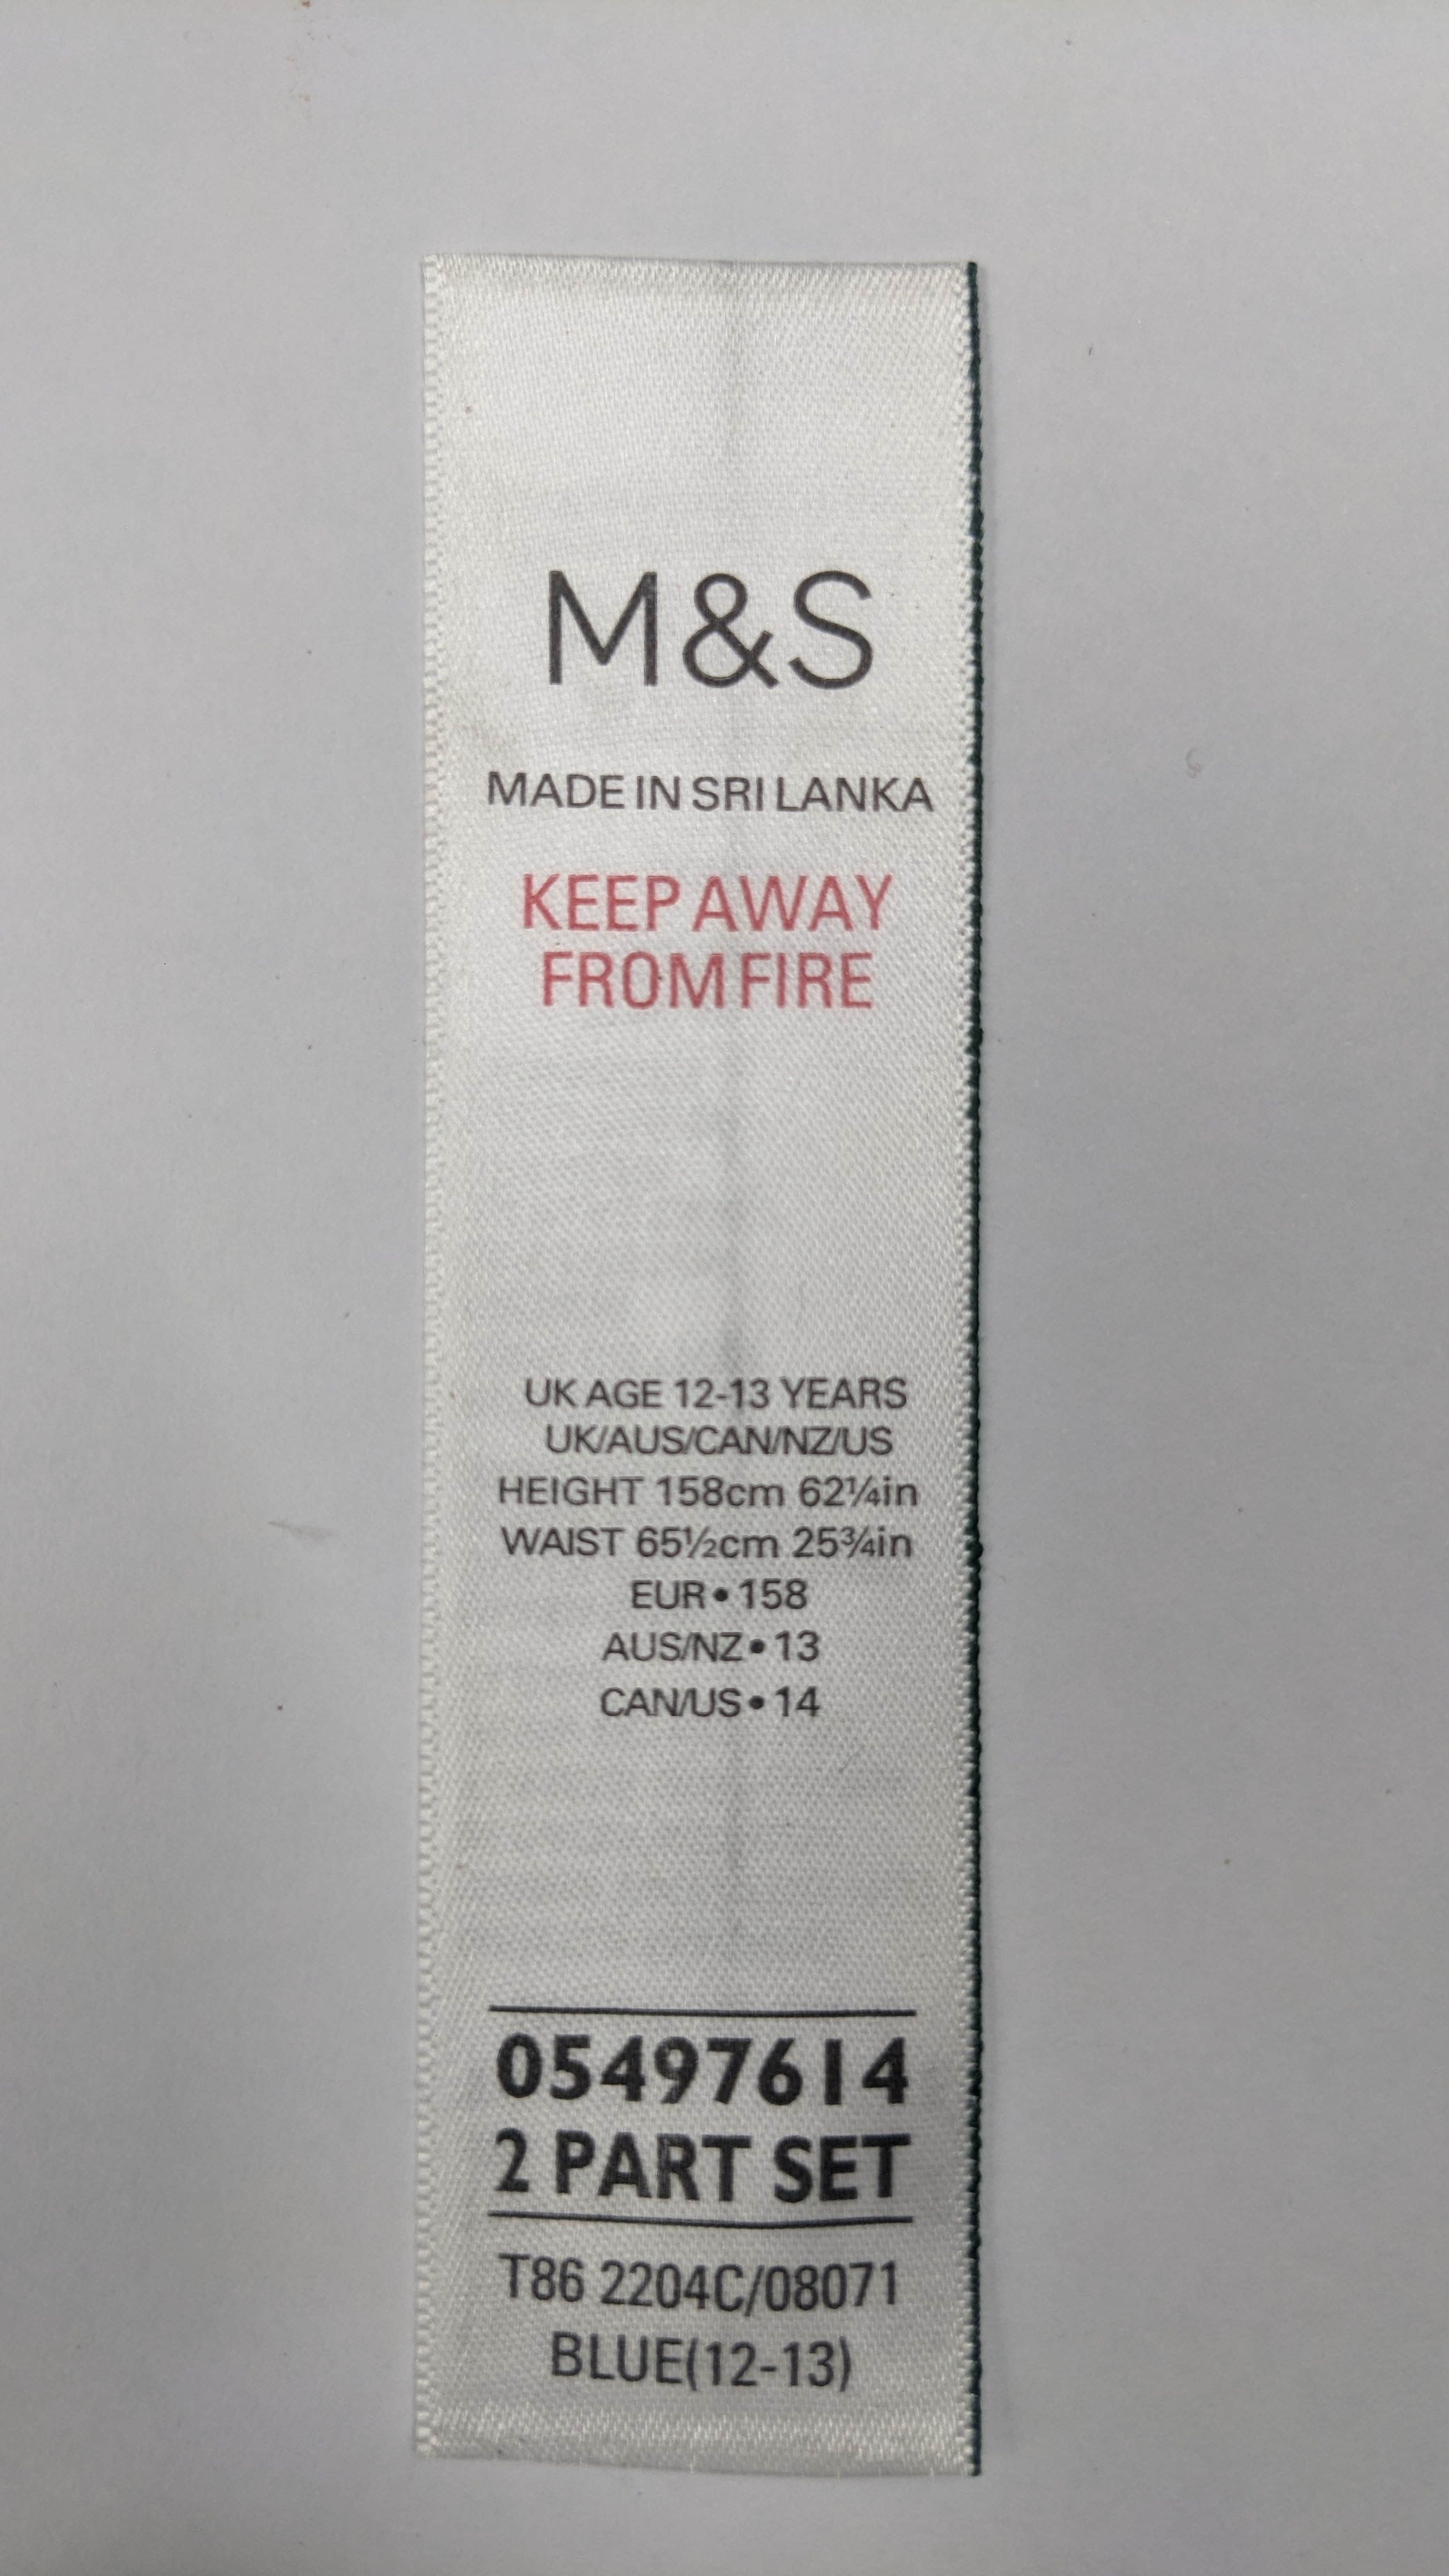Damaged_label: (402, 216, 998, 2496)
